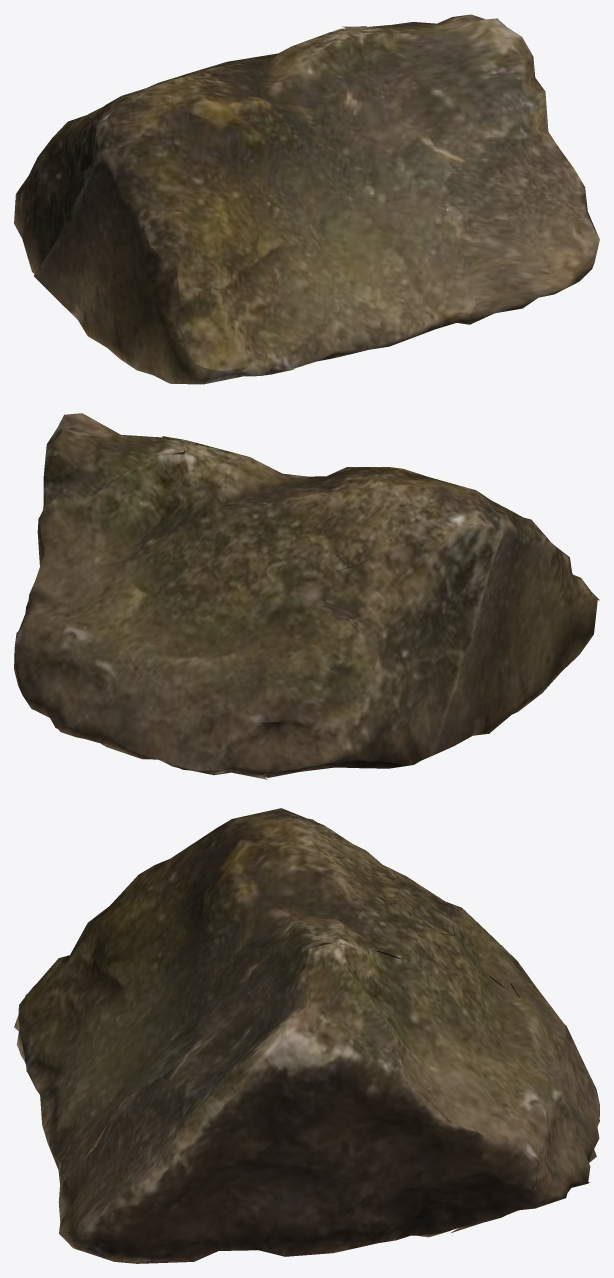
Rendered from stone_02.glb.
3 renders of one model, top to bottom at view 1: azimuth 30°, elevation 25°; view 2: azimuth 150°, elevation 25°; view 3: azimuth 270°, elevation 25°, orthographic. The views are drawn at different scales.
Parts seen in each view (by area): view 1: stone_02; view 2: stone_02; view 3: stone_02.
Part boxes in pixels (x1,y1,x2,y2): stone_02: (14, 14, 599, 384); stone_02: (14, 413, 599, 779); stone_02: (14, 808, 599, 1263).
Bounding box in the file's own units: 2.11 × 1.1 × 2.08.
Materials: 1 (1 with a texture image).
